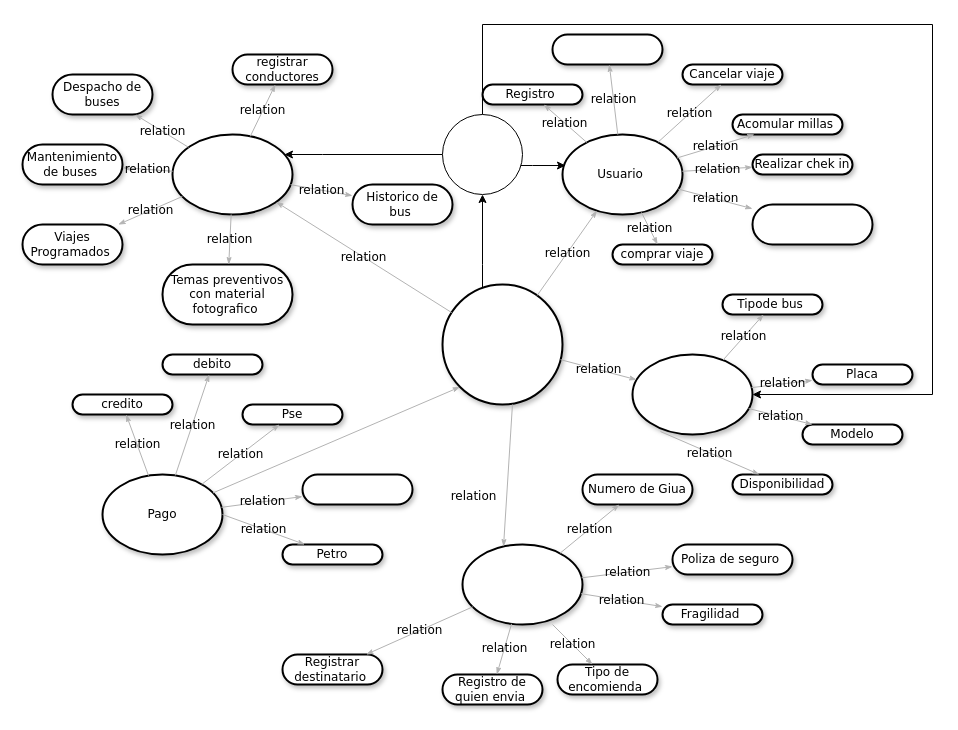
Some shapes in this 958 by 730 pixel diagram are drawn without their labels. Each missing label, with the centre of its shape:
"Antecedentes no covid" belongs at pixel 608 50.
"Aplicación Móvil" belongs at pixel 503 345.
"Bolivar" belongs at pixel 358 490.
"Conductor" belongs at pixel 693 395.
"disponibilidad de silla" belongs at pixel 813 225.
"Encomiendas" belongs at pixel 523 585.
"Propietarios" belongs at pixel 233 175.
"Whatsaap" belongs at pixel 482 154.
